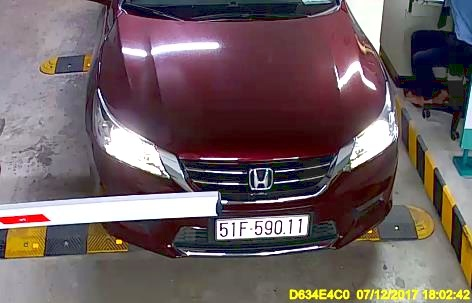plate: (215, 215, 309, 240)
